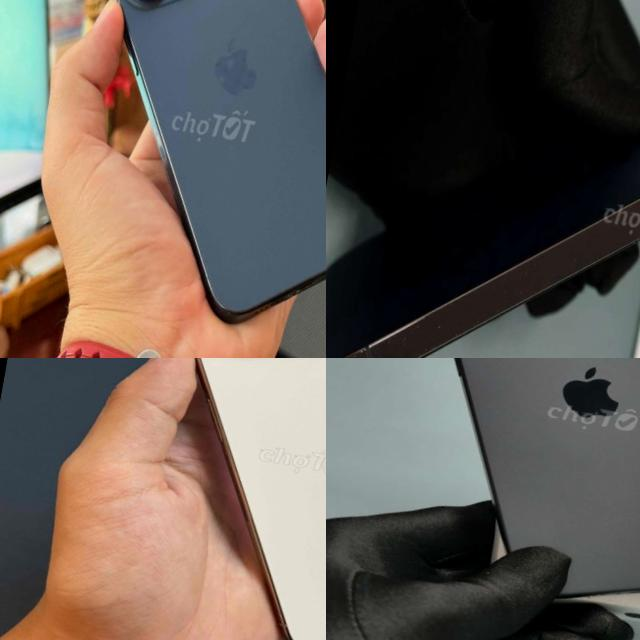scratch: (336, 312, 453, 358)
